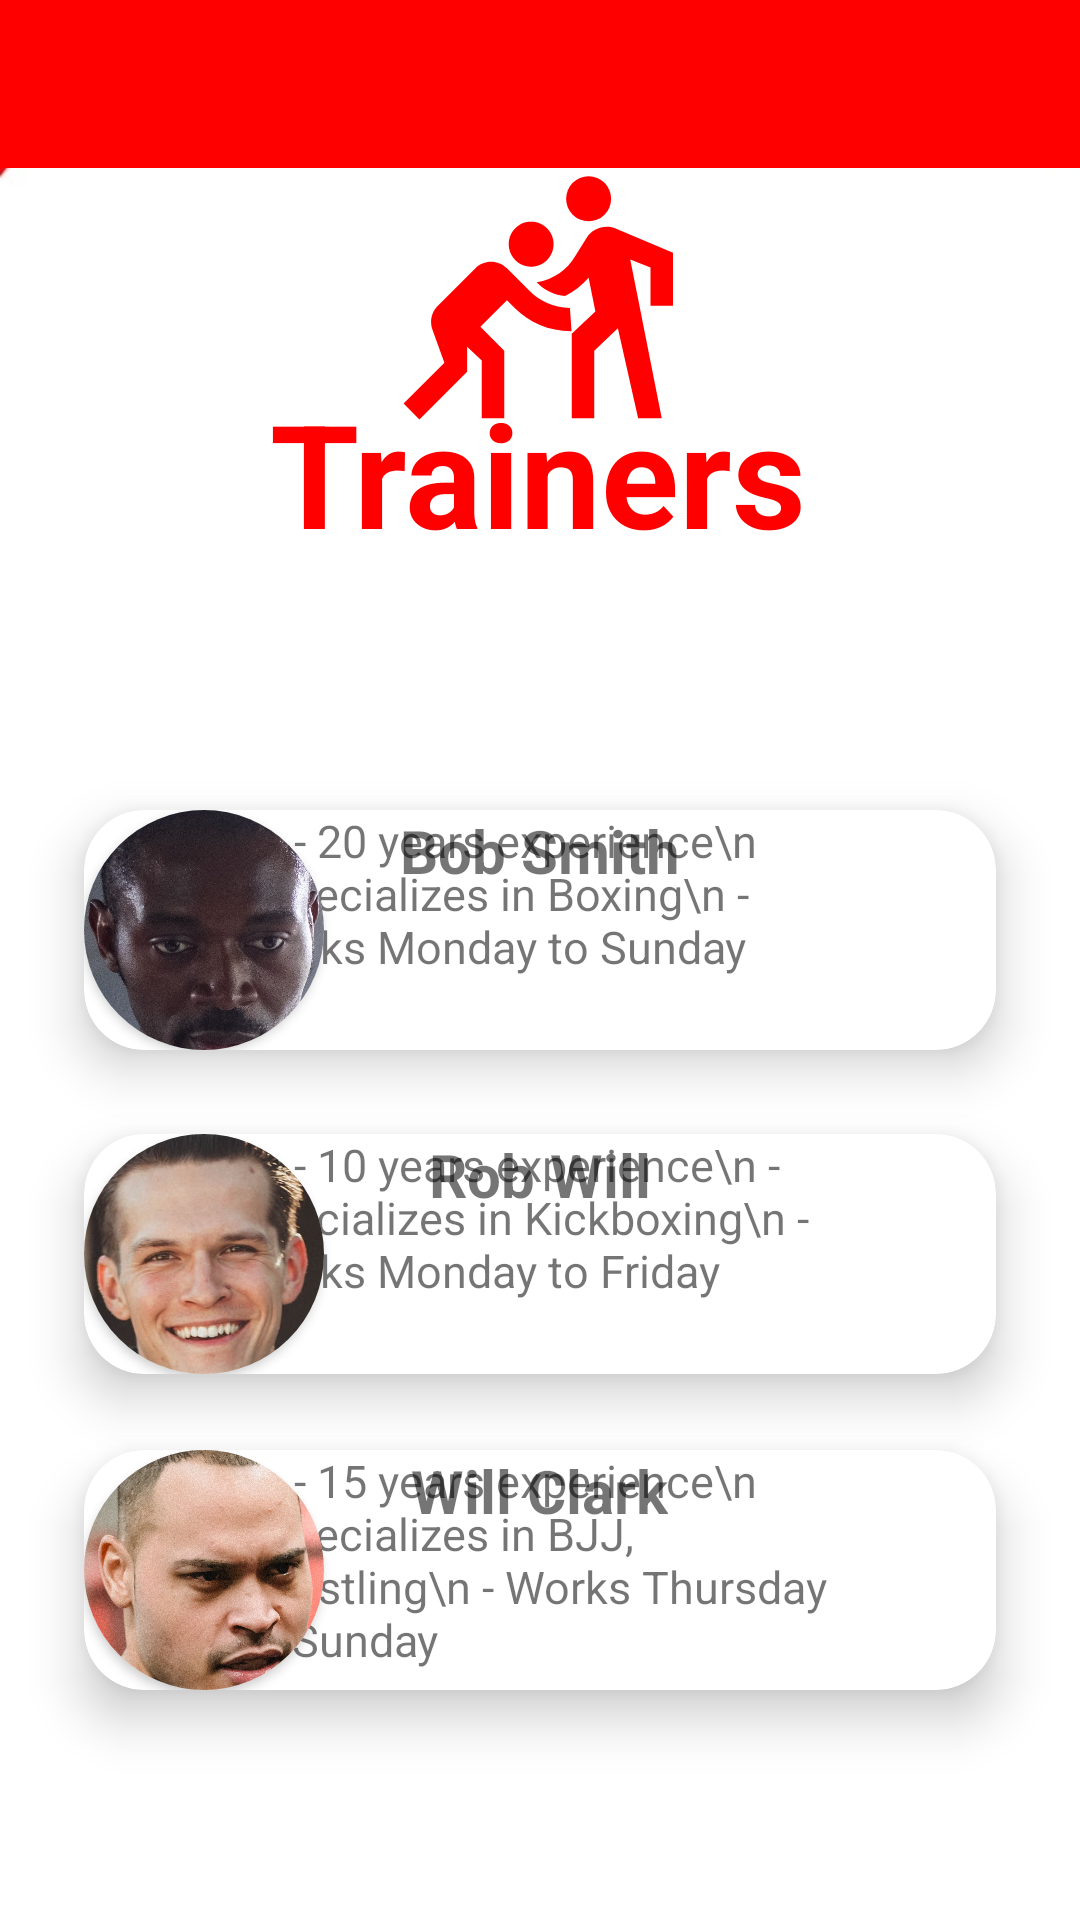

Point at icon controls on the screen. Image size 1080×1920, points as [x,y].
trainer: [204,930]
trainer three: [204,1570]
trainer two: [204,1254]
